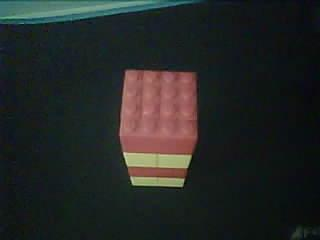lego: (119, 68, 199, 188)
